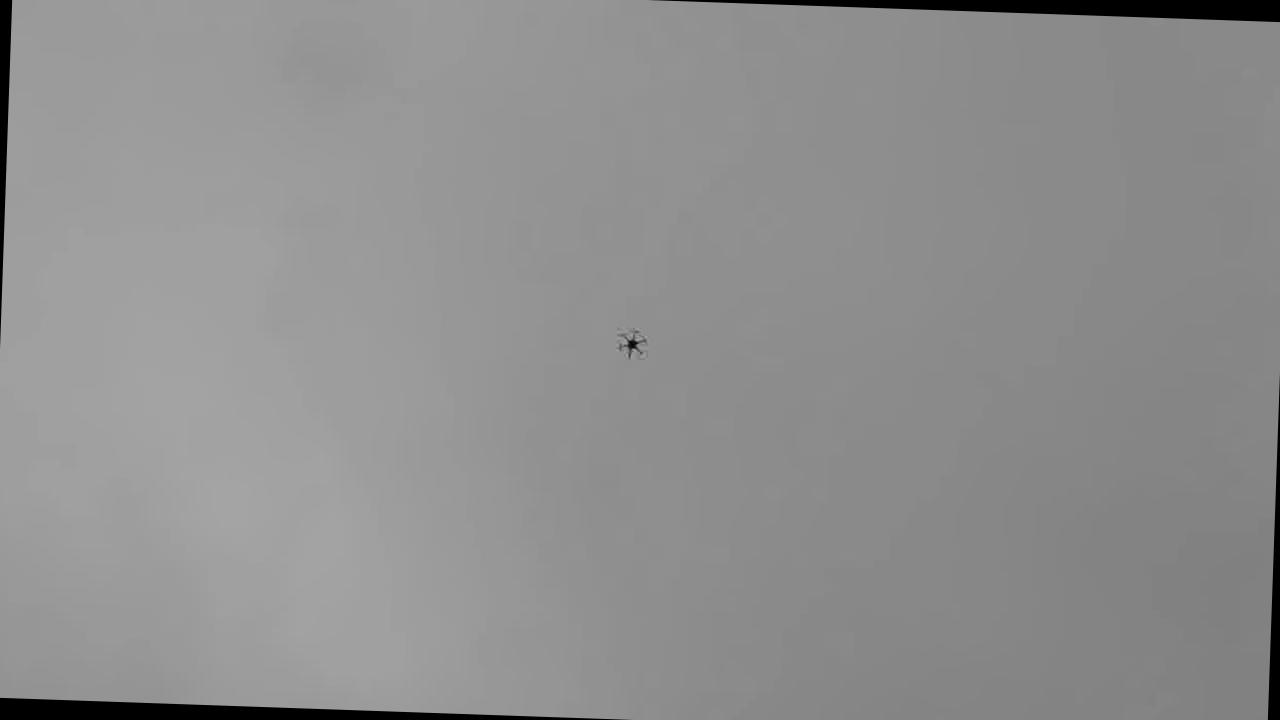drone: (615, 325, 649, 359)
